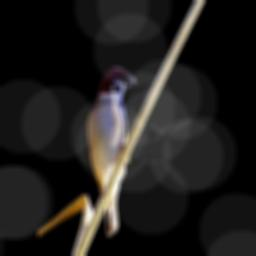Sparrow: (86, 64, 138, 237)
